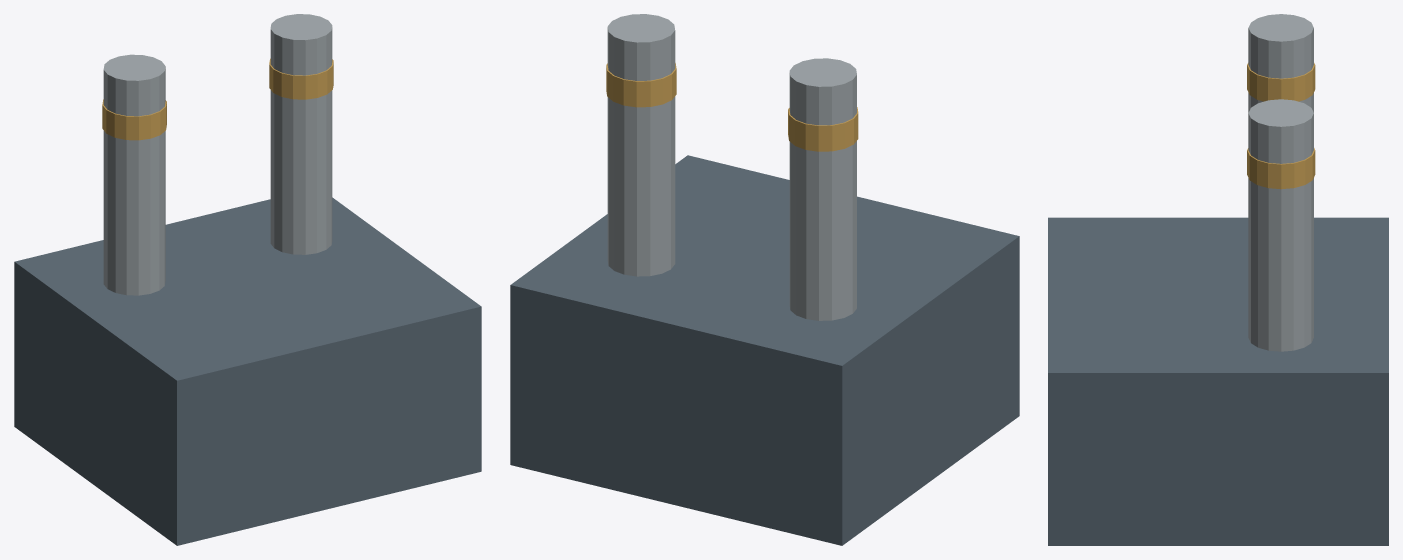
Rendered from coal-power.glb.
3 renders of one model, left to right at view 1: azimuth 30°, elevation 25°; view 2: azimuth 150°, elevation 25°; view 3: azimuth 270°, elevation 25°, orthographic. The views are drawn at different scales.
Visible parts, largest first — view 1: reactor hall, exhaust stack, exhaust stack.001, safety stripe.001, safety stripe; view 2: reactor hall, exhaust stack.001, exhaust stack, safety stripe.001, safety stripe; view 3: reactor hall, exhaust stack.001, exhaust stack, safety stripe.001, safety stripe.
Part boxes in pixels (<box>): reactor hall: <box>14,197,481,545</box>; exhaust stack: <box>103,54,165,295</box>; exhaust stack.001: <box>270,14,332,254</box>; safety stripe.001: <box>269,58,333,99</box>; safety stripe: <box>102,99,166,140</box>; reactor hall: <box>510,155,1019,545</box>; exhaust stack.001: <box>607,14,675,276</box>; exhaust stack: <box>789,58,856,320</box>; safety stripe.001: <box>606,63,676,107</box>; safety stripe: <box>788,107,858,151</box>; reactor hall: <box>1048,217,1388,545</box>; exhaust stack.001: <box>1248,99,1313,351</box>; exhaust stack: <box>1248,14,1313,112</box>; safety stripe.001: <box>1247,148,1315,189</box>; safety stripe: <box>1247,63,1315,101</box>.
Size of the model in its own units: 1.35 by 1.61 by 1.25.
